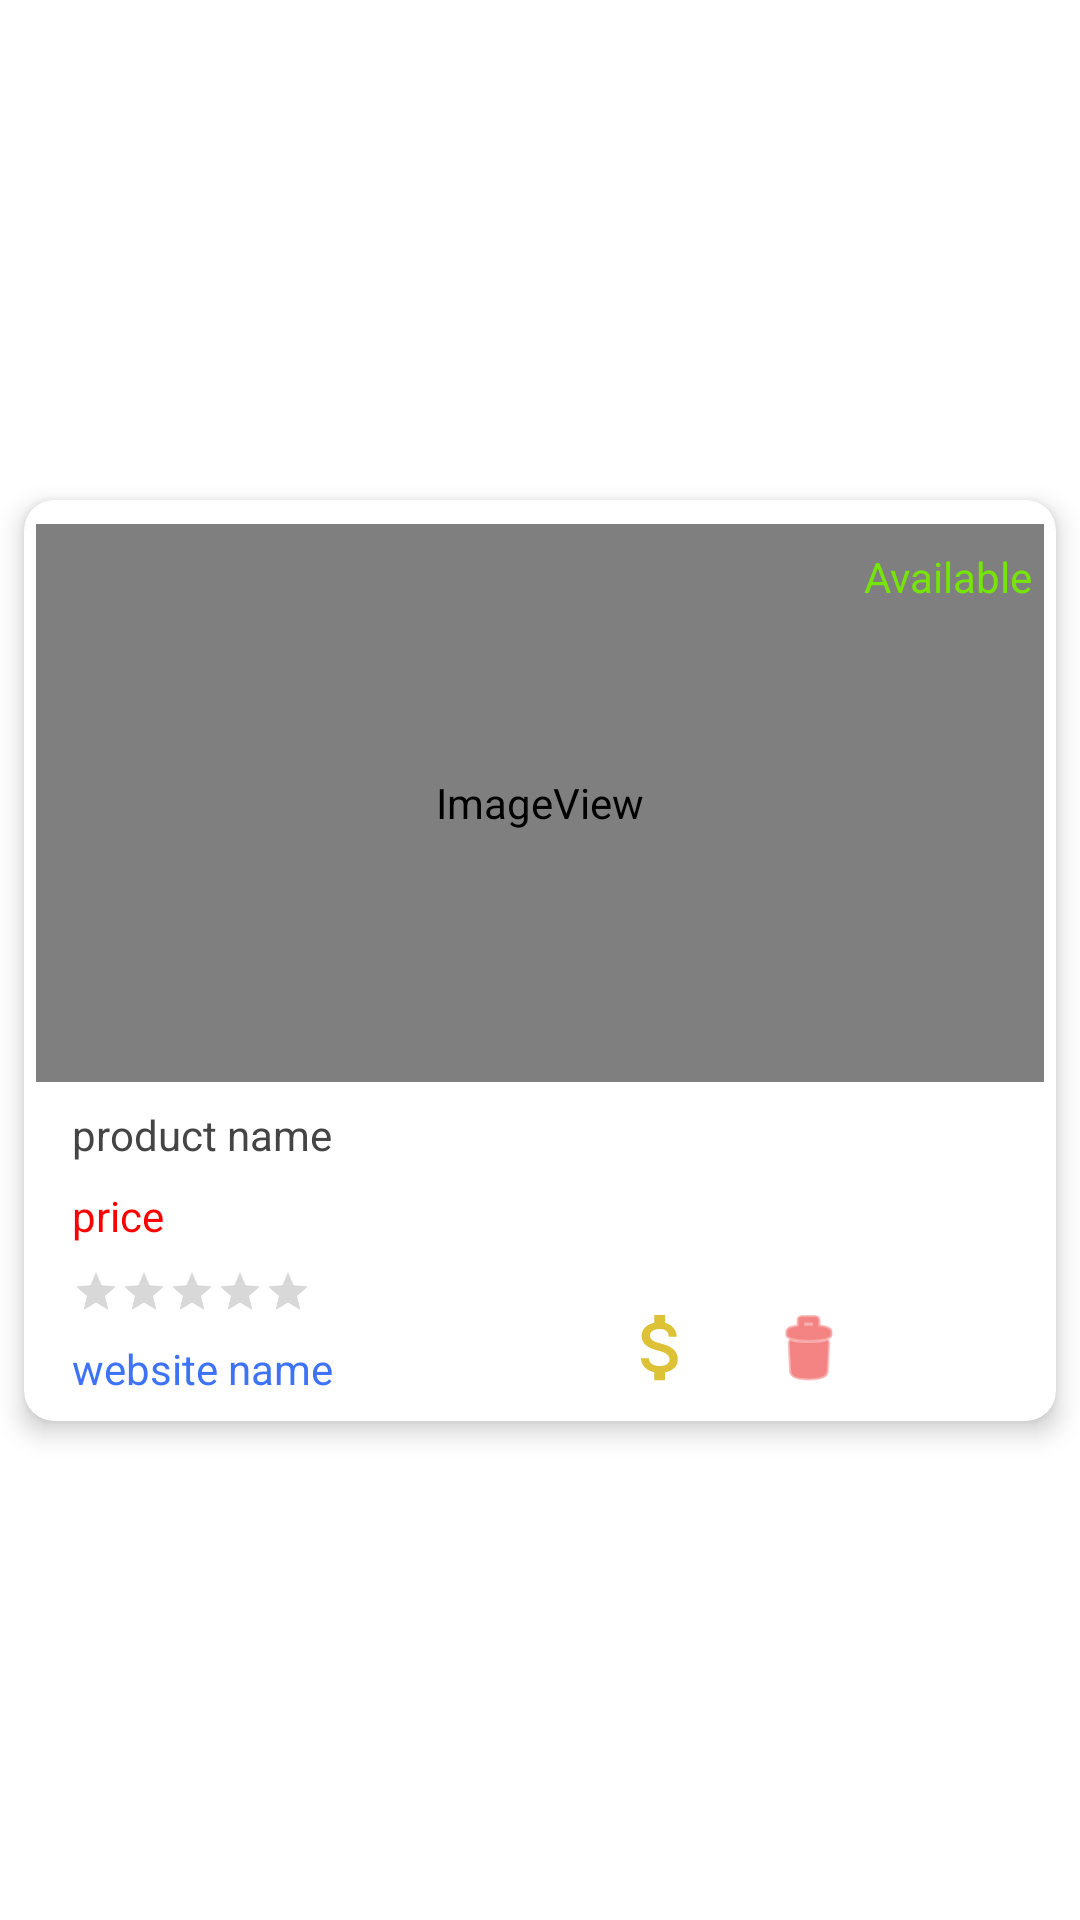

Screen size 1080w x 1920h. Icon name, then its box in pixels as bbox=[x1, y1, x2, y2]:
attach money: bbox=[641, 1315, 678, 1381]
delete: bbox=[785, 1315, 833, 1381]
